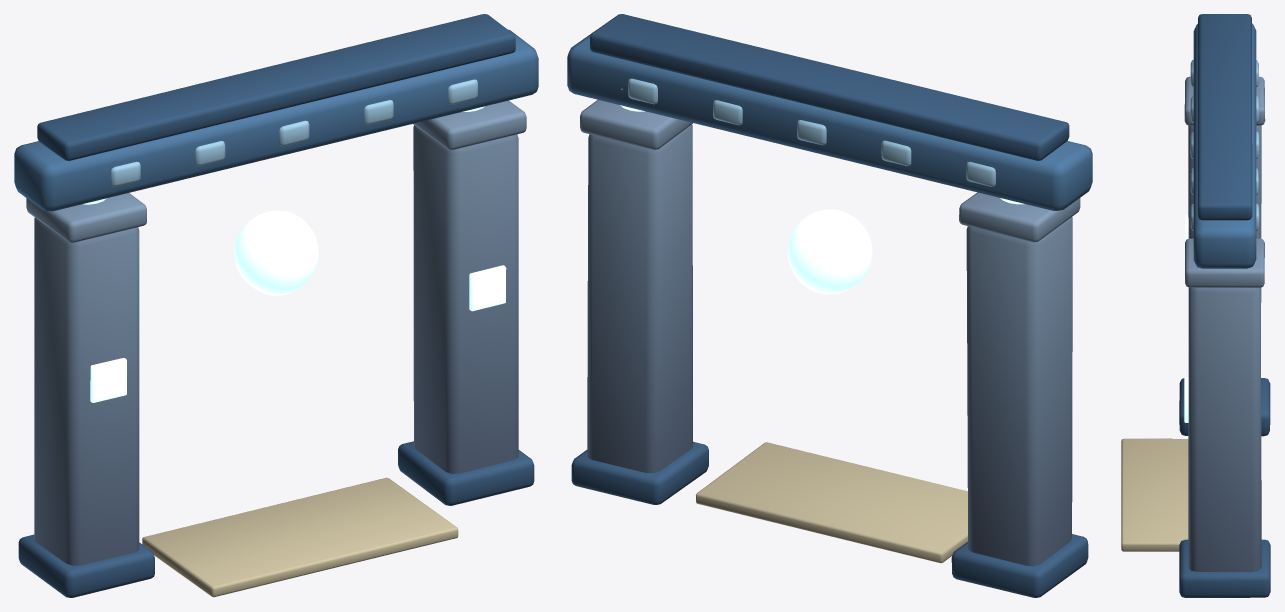
3 renders of one model, left to right at view 1: azimuth 30°, elevation 25°; view 2: azimuth 150°, elevation 25°; view 3: azimuth 270°, elevation 25°, orthographic. The views are drawn at different scales.
Parts seen in each view (by area): view 1: gate_80a4ed8d; view 2: gate_80a4ed8d; view 3: gate_80a4ed8d.
Boxes of the visible parts, bbox=[...] form: gate_80a4ed8d: bbox=[14, 14, 538, 597]; gate_80a4ed8d: bbox=[567, 14, 1092, 597]; gate_80a4ed8d: bbox=[1121, 14, 1270, 597].
Bounding box in the file's own units: 4.84 × 4.17 × 1.44.
